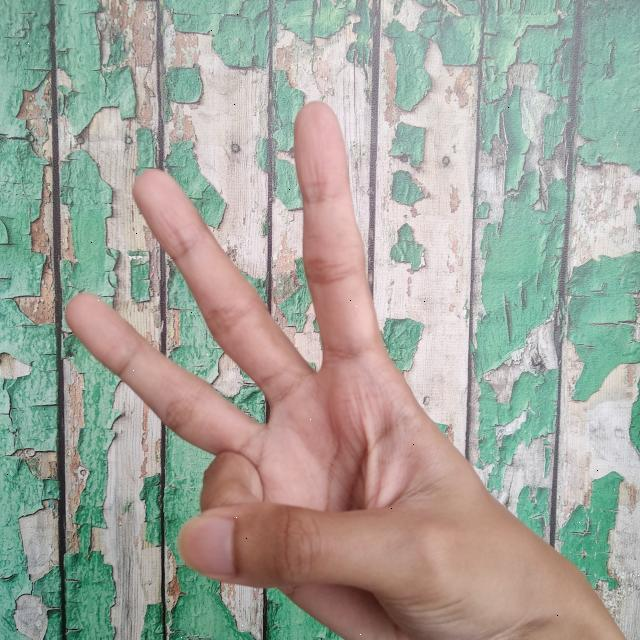W: (52, 93, 640, 640)
